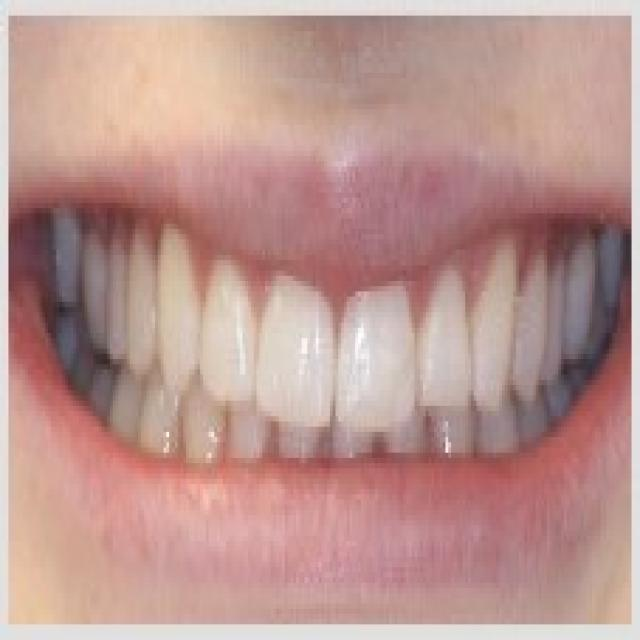tooth: (254, 260, 338, 416), (318, 281, 414, 416), (198, 255, 256, 395), (420, 302, 479, 421), (155, 234, 200, 370), (519, 260, 558, 396), (254, 406, 330, 473), (485, 276, 522, 411), (124, 229, 158, 359), (82, 224, 113, 343), (192, 400, 254, 452), (107, 234, 130, 354), (409, 421, 482, 458), (338, 422, 403, 463), (488, 427, 516, 452)
